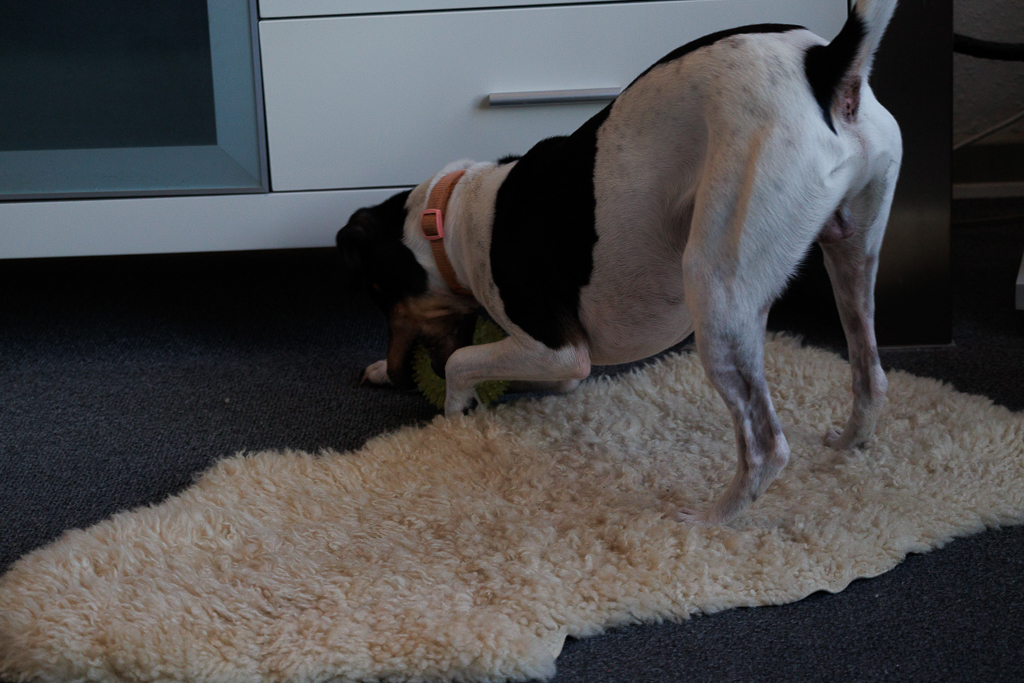Dog: (309, 0, 916, 542)
